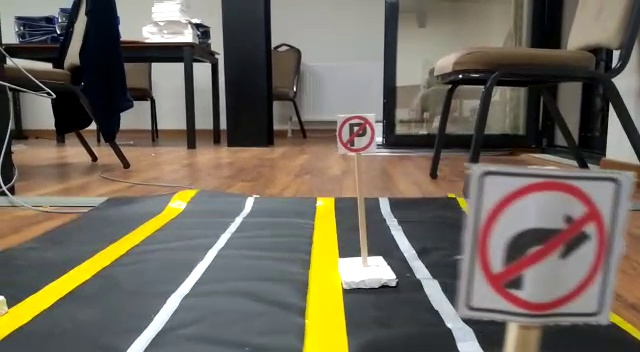park_yapilmaz: (333, 114, 376, 152)
saga_donulmez: (481, 178, 608, 318)
